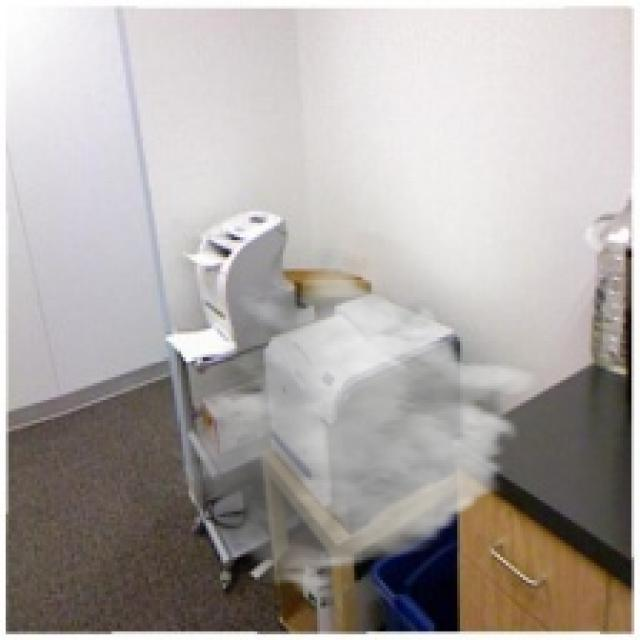Smoke: (165, 248, 546, 594)
